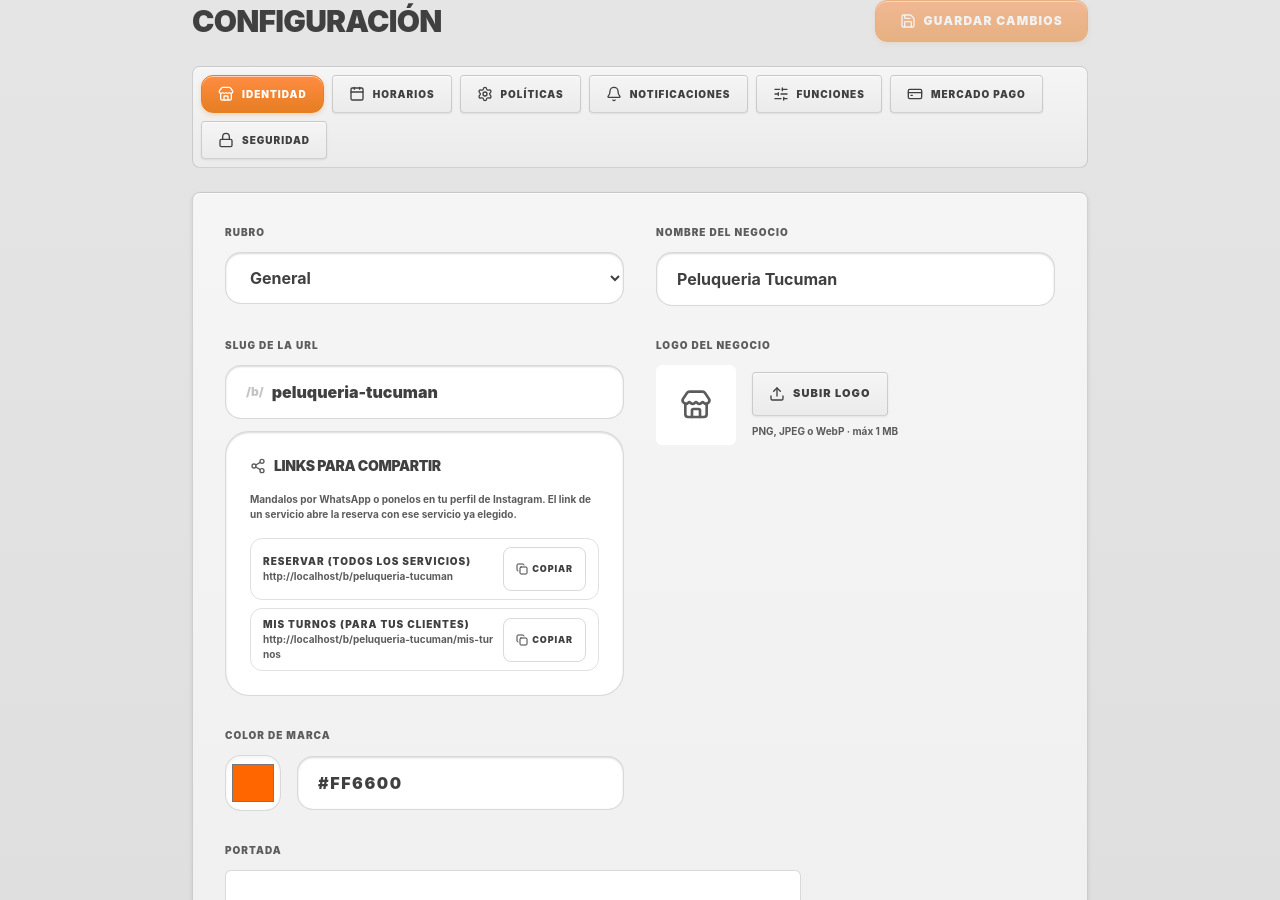
Test: Settings - notificaciones › el interruptor de recordatorios manda solo ese campo
Click the button "Notificaciones".
click(668, 94)  # box [589,75,748,113]
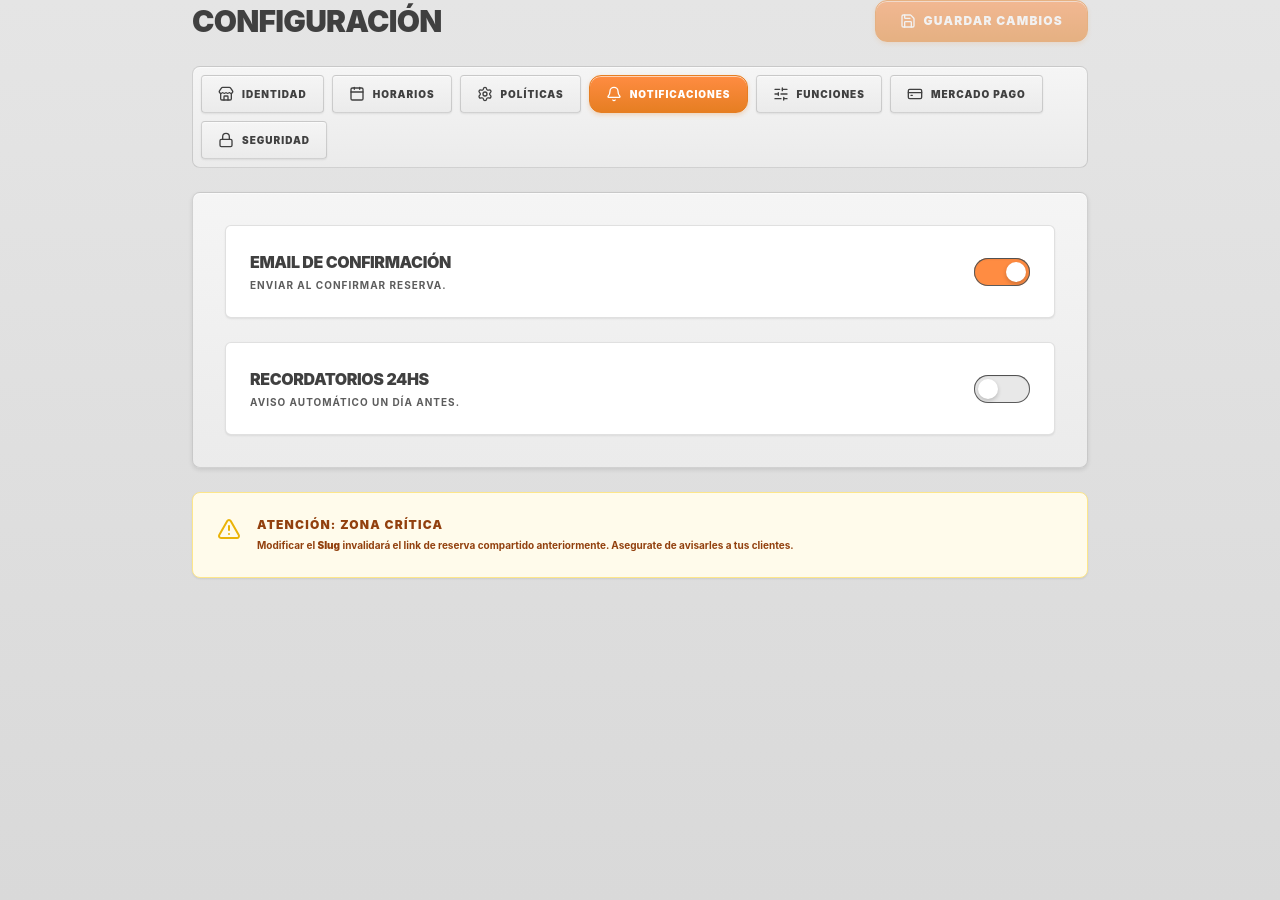
Click the switch named "Recordatorios 24hs".
click(1002, 388)  # box [974,374,1030,402]
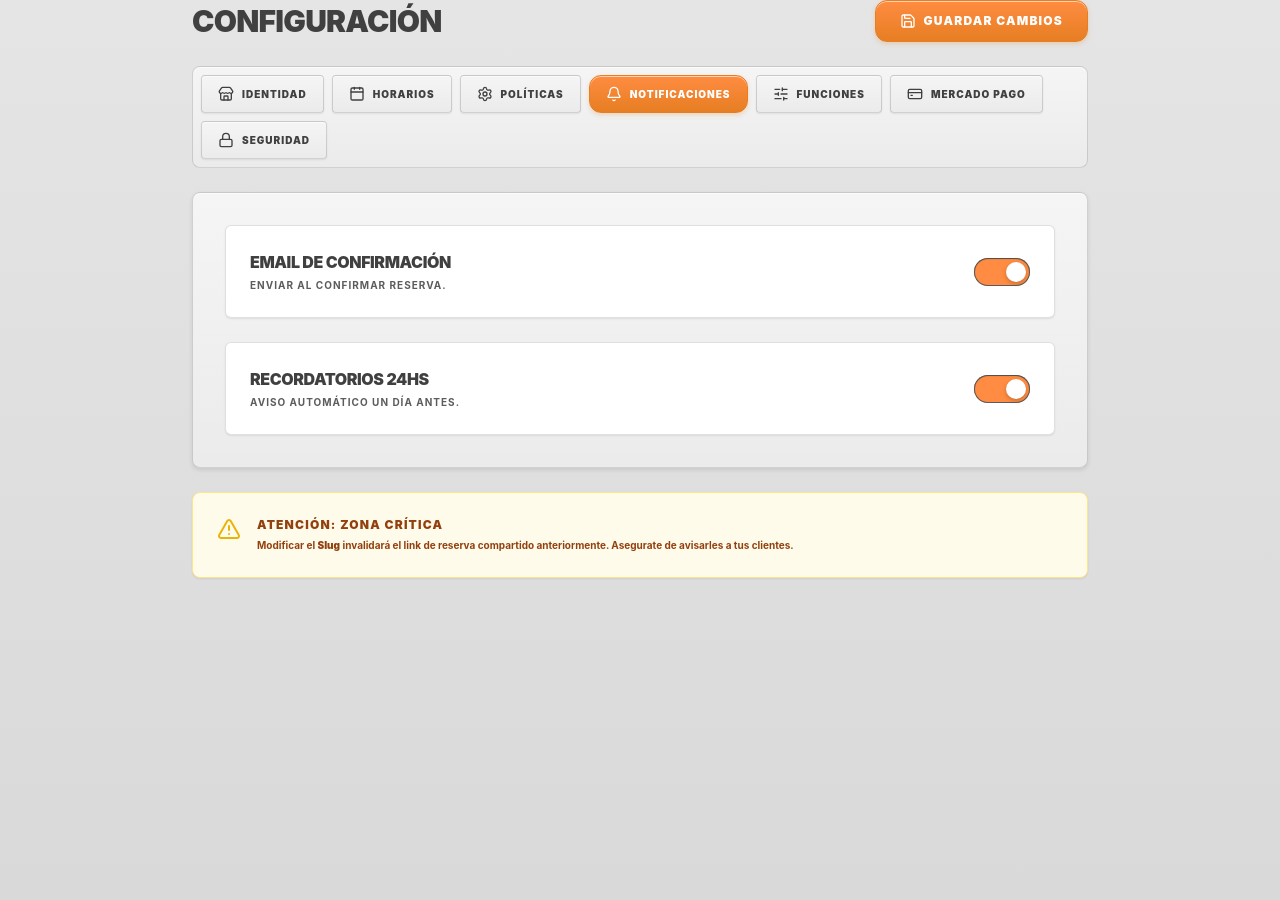
Check: the switch named "Recordatorios 24hs" is checked, box [974,374,1030,402]
Click the button "Guardar Cambios".
click(981, 21)  # box [874,0,1088,42]
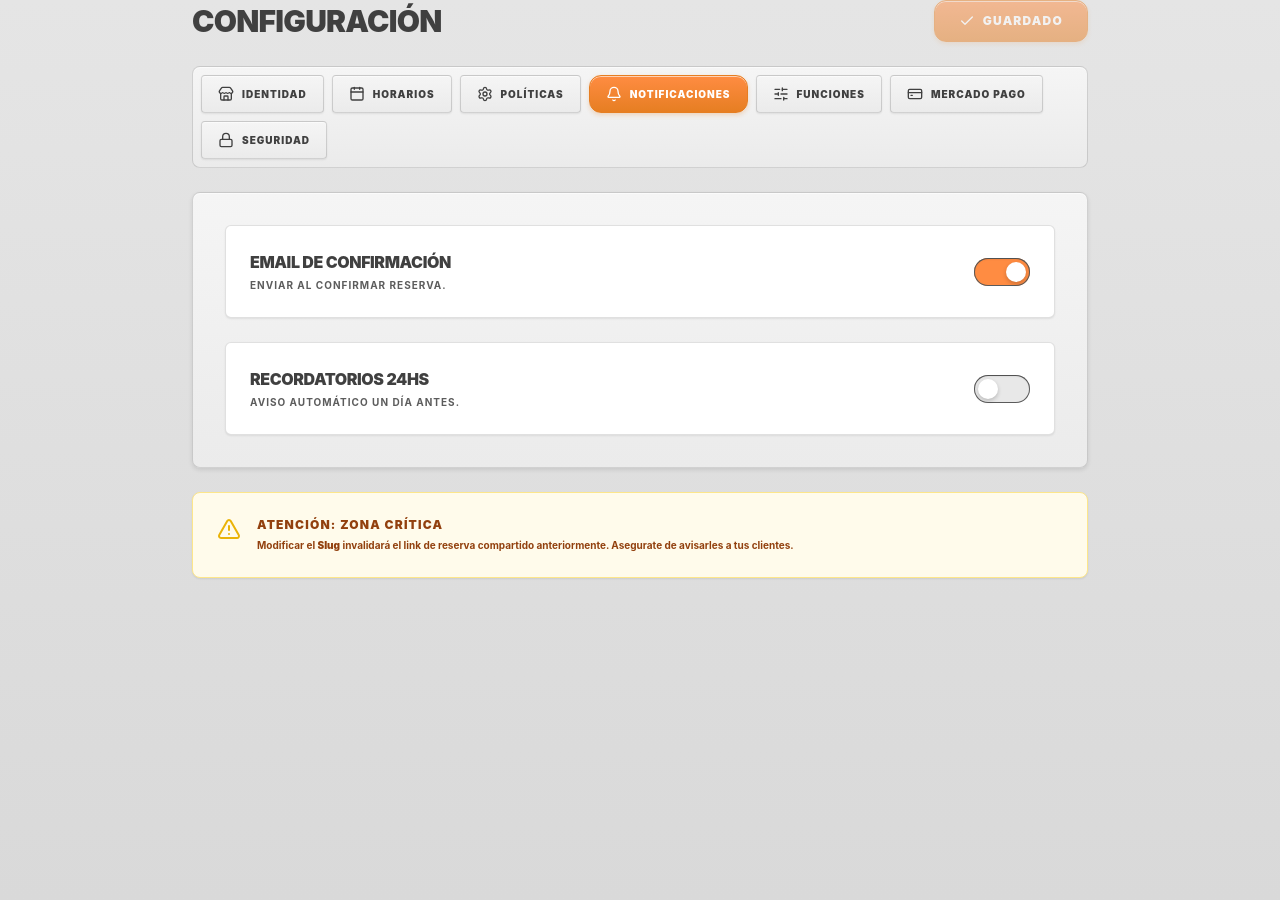
Check: the button "Guardado" is shown, box [934,0,1088,42]
